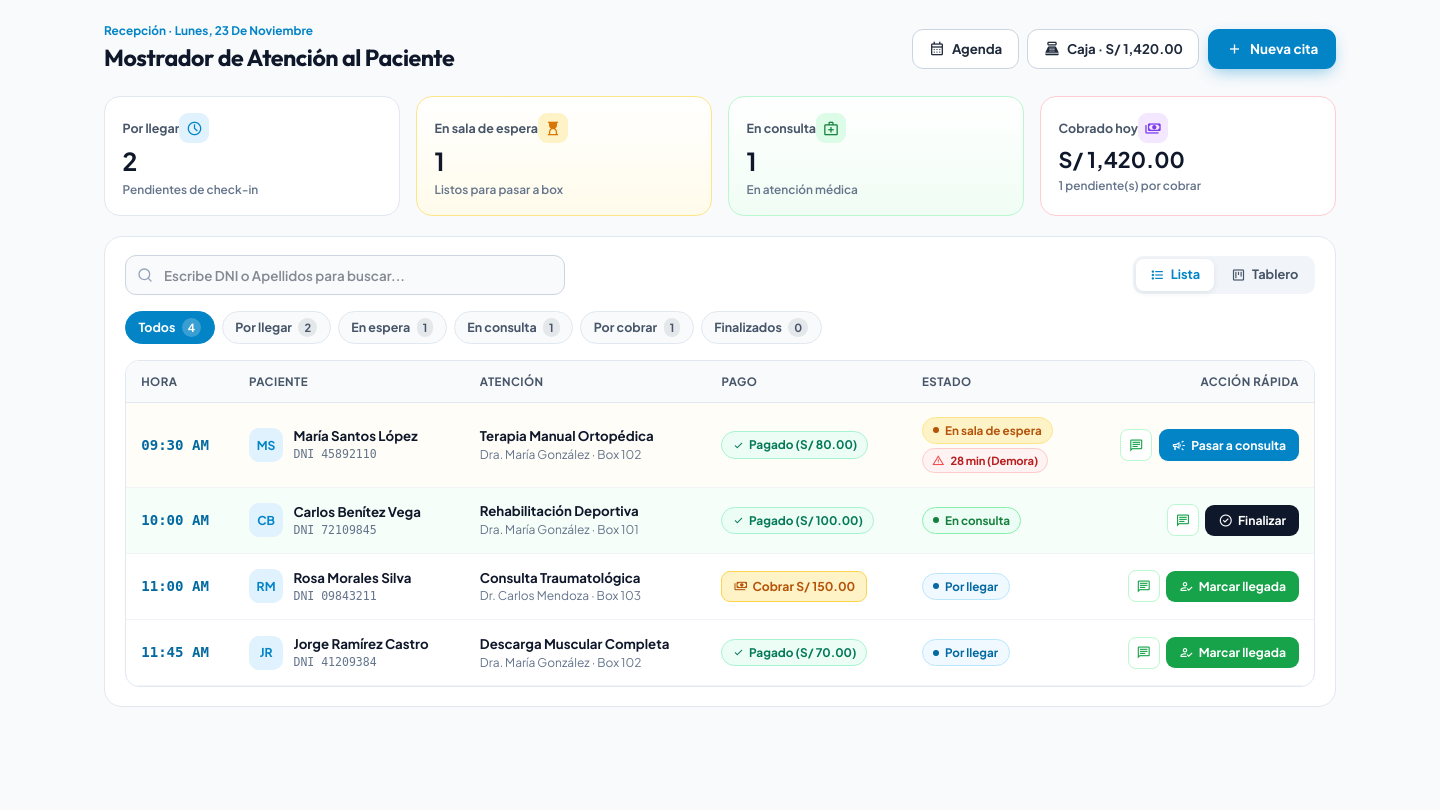
Scenario: Multi-Role Dashboards Suite › should render ReceptionDashboard with front-desk check-in search, 1-click arrival and live payment
This screenshot has width=1440, height=810.
Check: the heading "Mostrador de Atención al Paciente" is shown, box [104, 41, 454, 76]
Check: the text "María Santos López" is shown, box [294, 426, 418, 446]
Step 1. Click the button "Marcar llegada" in the row of "11:00 AM" → click(1232, 586), box [1166, 571, 1299, 602]
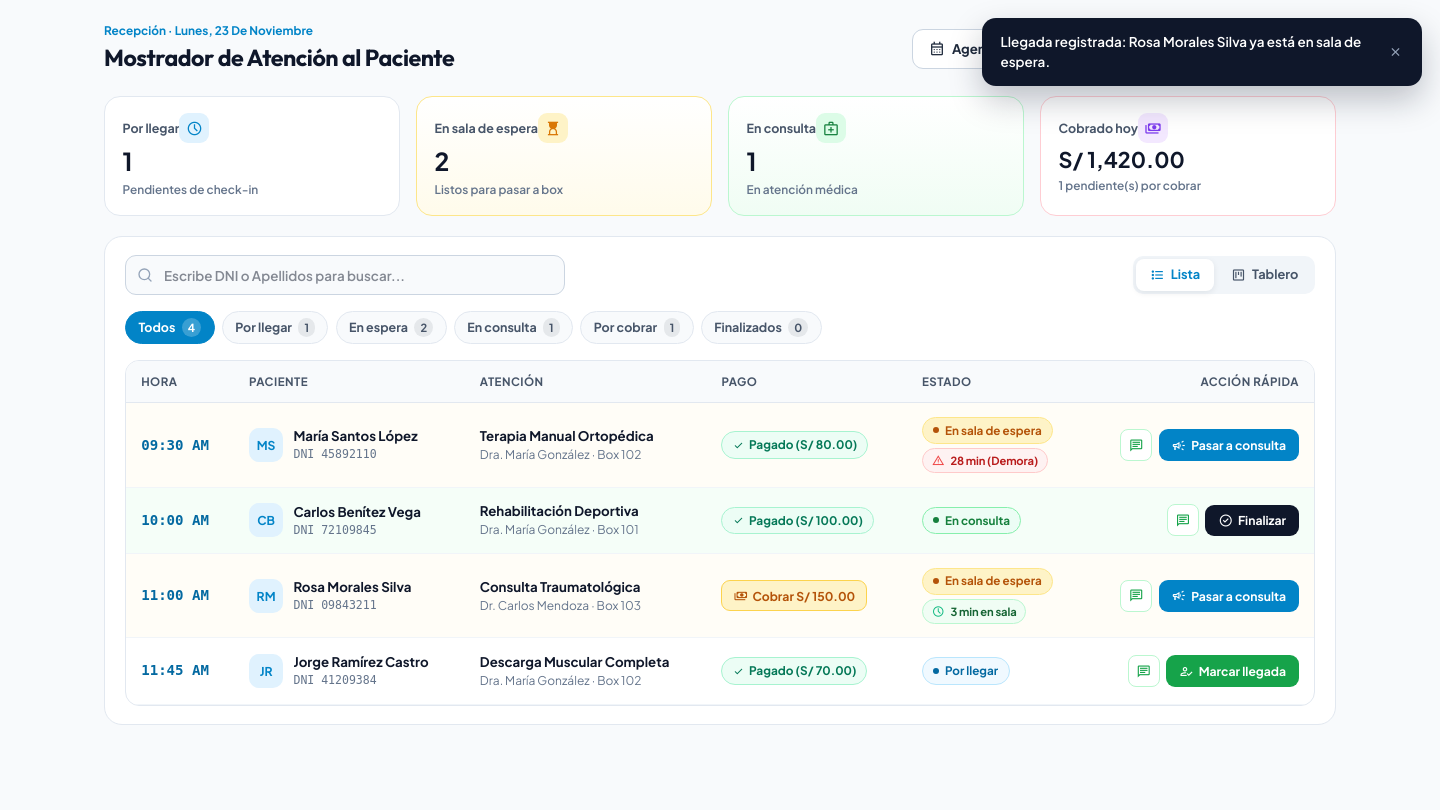
Check: the text "Llegada registrada:" is shown, box [1000, 33, 1361, 70]
# Live payment updates cash total
Step 2. Click the button "Cobrar S/ 150.00" → click(794, 596), box [721, 580, 867, 611]
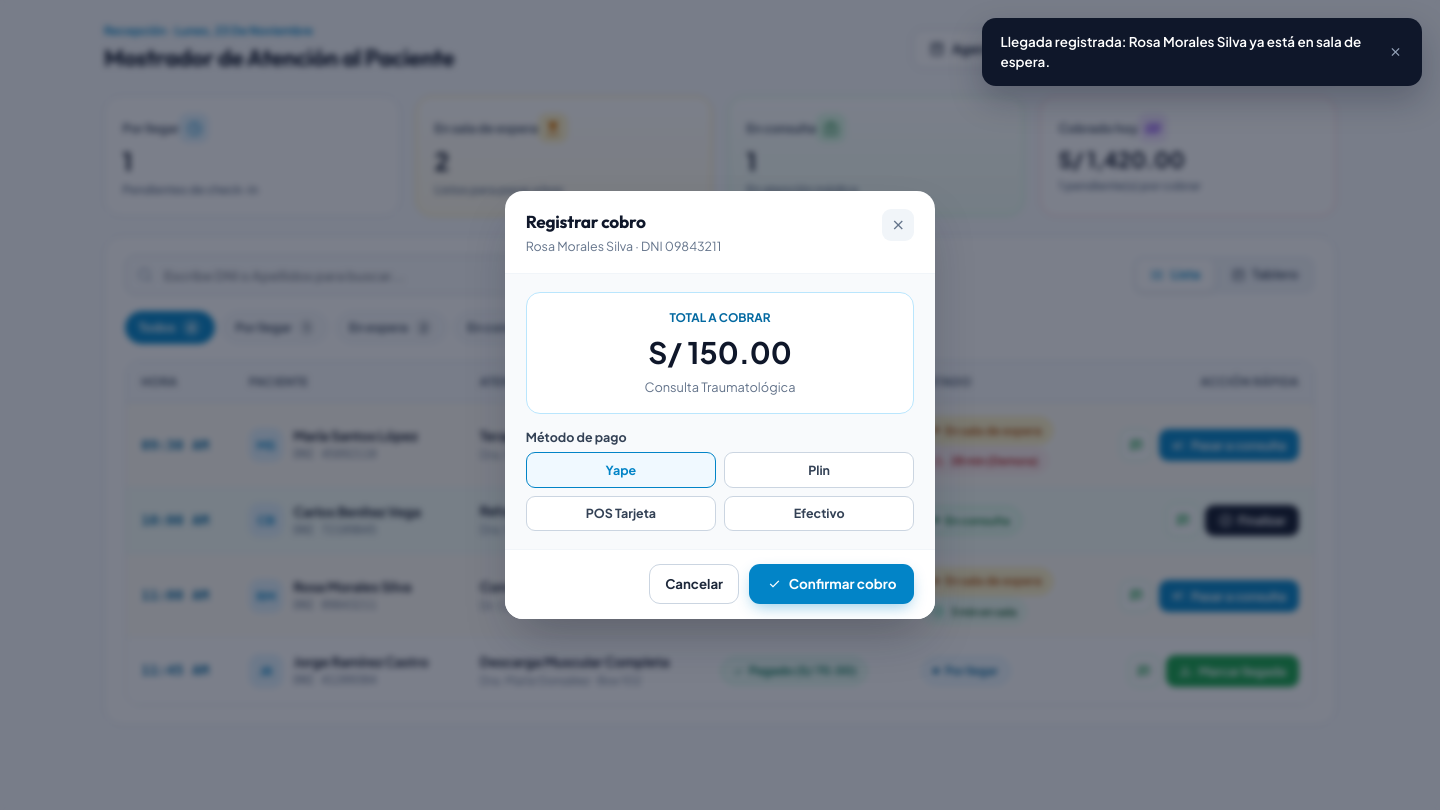
Step 3. Click the button "Confirmar cobro" → click(832, 584), box [749, 564, 914, 604]
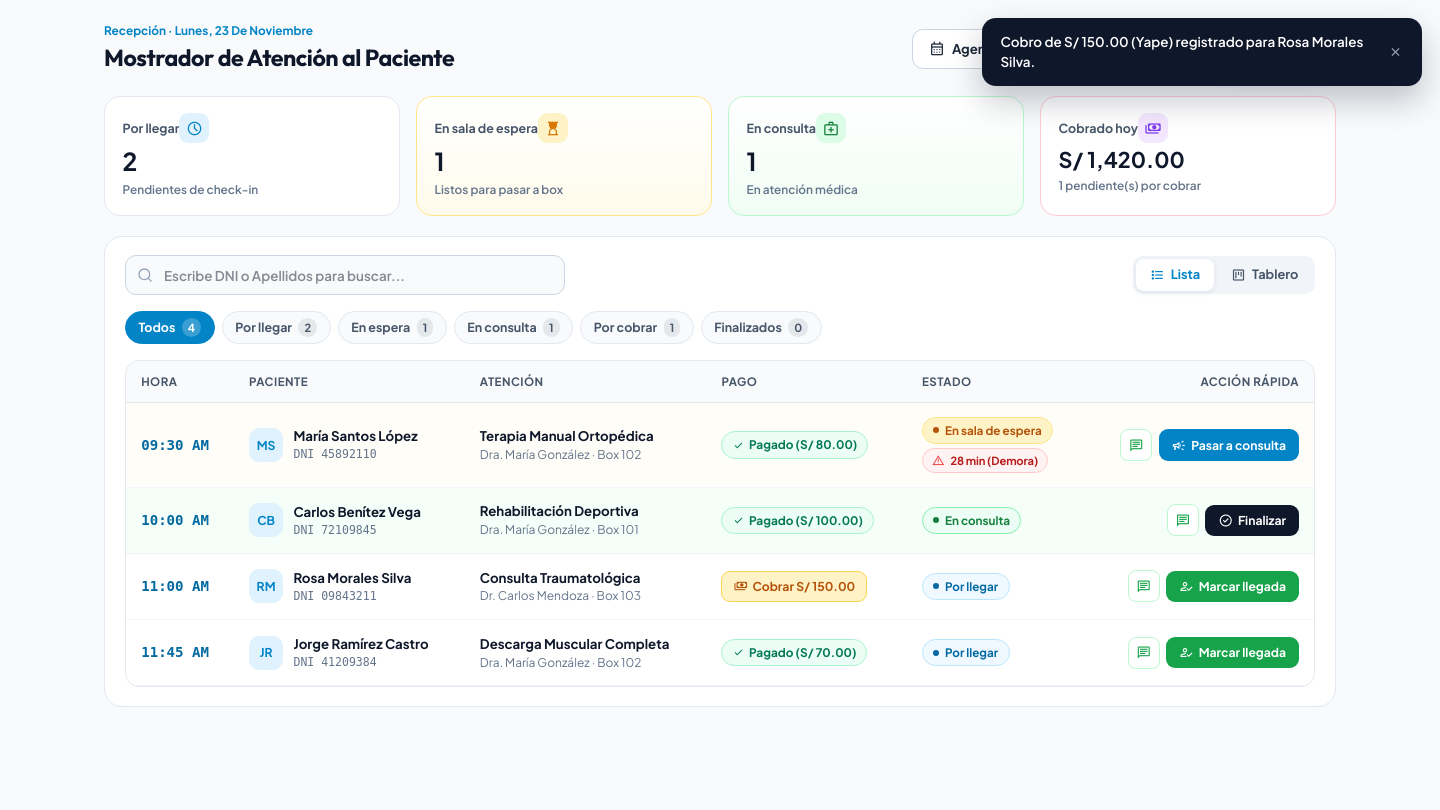
Check: the text "Cobro de S/ 150.00" is shown, box [1000, 33, 1363, 70]
